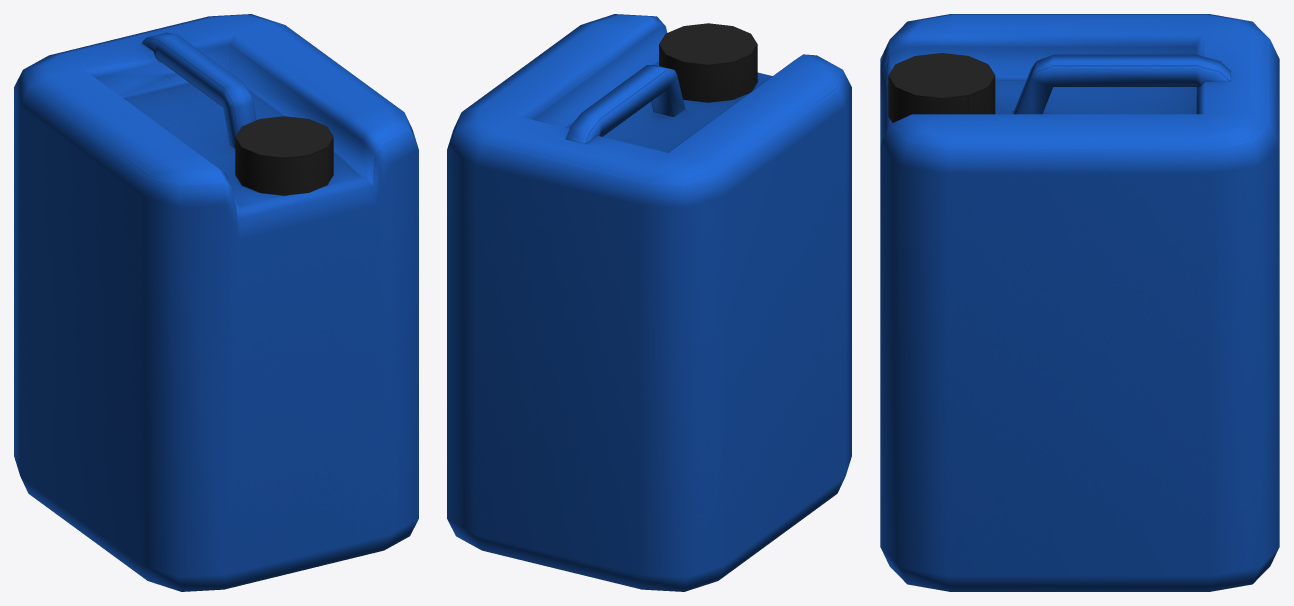
File: jerrycanBlue_L.fbx
3 renders of one model, left to right at view 1: azimuth 30°, elevation 25°; view 2: azimuth 150°, elevation 25°; view 3: azimuth 270°, elevation 25°, orthographic. The views are drawn at different scales.
Parts seen in each view (by area): view 1: jerrycanBlue_L; view 2: jerrycanBlue_L; view 3: jerrycanBlue_L.
Part boxes in pixels (bbox=[...]): jerrycanBlue_L: bbox=[14, 14, 418, 591]; jerrycanBlue_L: bbox=[447, 14, 851, 591]; jerrycanBlue_L: bbox=[880, 14, 1279, 591].
Size of the model in its own units: 0.2113 by 0.3244 by 0.2474.
